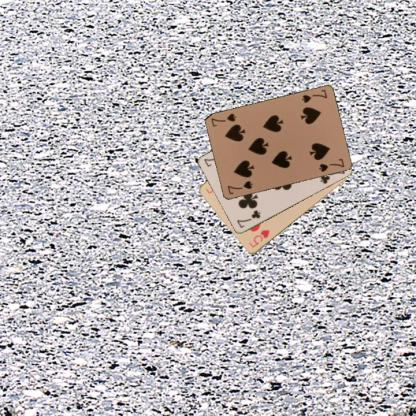5h: (247, 227, 271, 249)
7c: (234, 207, 262, 230)
7s: (224, 178, 254, 196), (299, 87, 328, 105)
